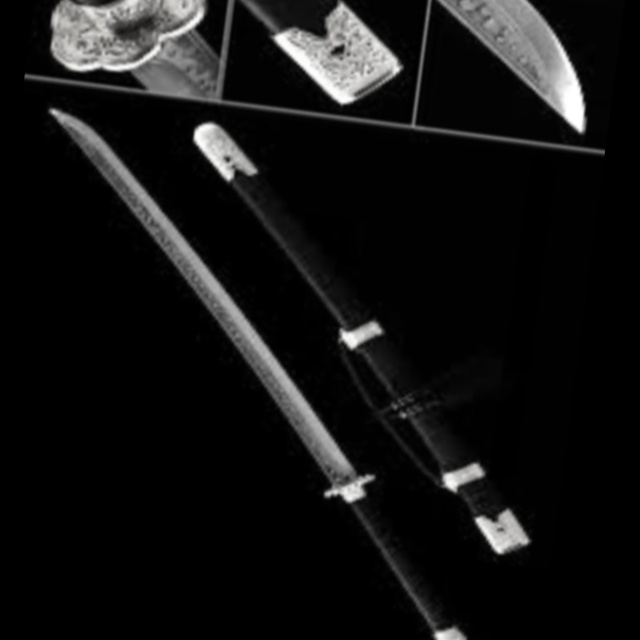Sharp-Object: (0, 98, 543, 640)
